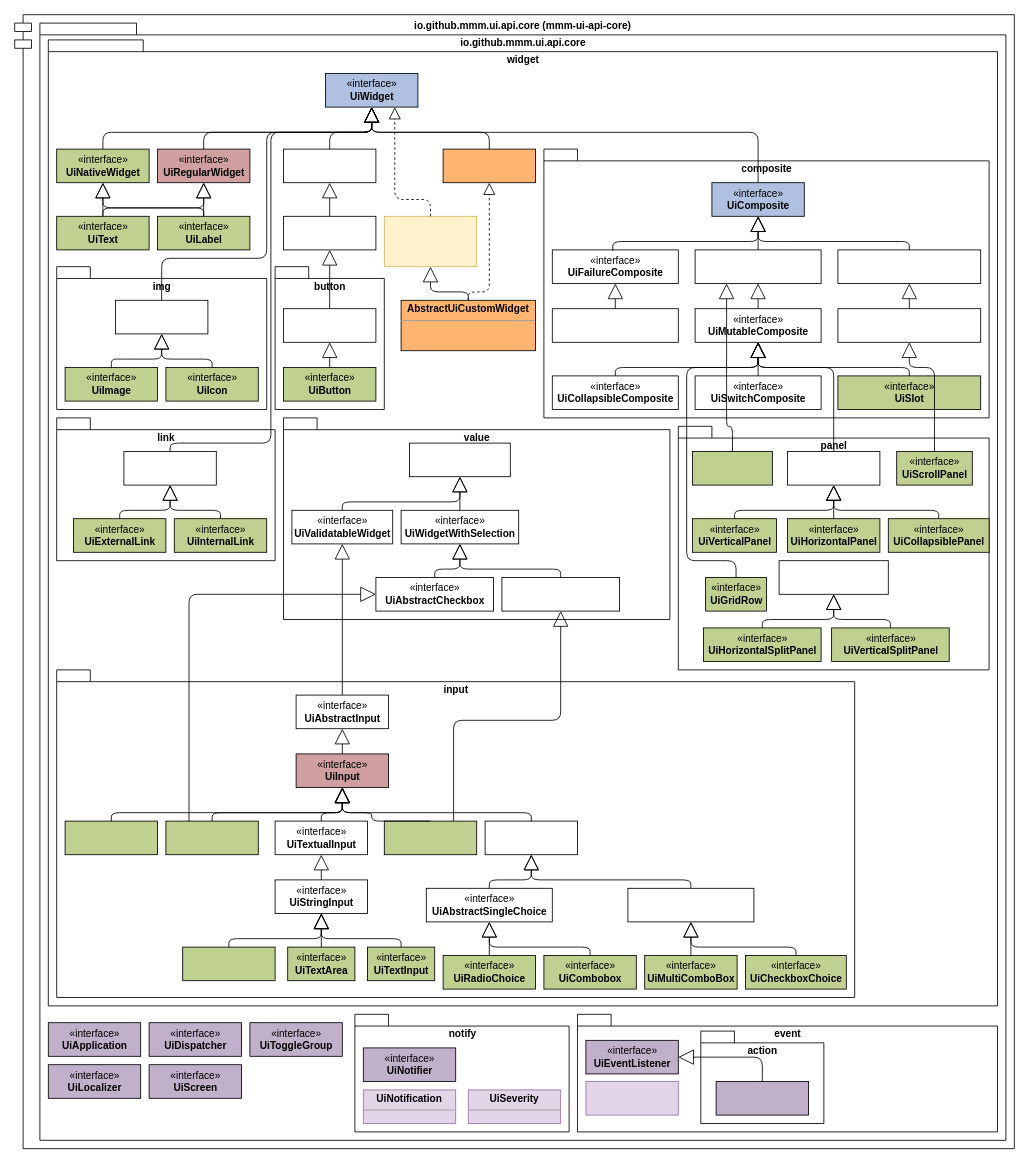
The diagram is 1029 pixels wide and 1163 high, and some of its shapes have lost their labels. The centre of each missing label's shape, as x and y in pixels:
AbstractUiWidget: [430,241]
UiEvent: [631,1098]
«interface» UiAbstractButton: [329,325]
«interface» UiAbstractChoice: [531,837]
«interface» UiAbstractImage: [161,316]
«interface» UiAbstractLink: [169,468]
«interface» UiAbstractMultiChoice: [690,904]
«interface» UiAbstractRadioButton: [560,594]
«interface» UiAbstractSplitPanel: [833,577]
«interface» UiAction: [761,1098]
«interface» UiActiveWidget: [329,165]
«interface» UiCheckbox: [211,837]
«interface» UiClickableWidget: [329,232]
«interface» UiColorInput: [111,837]
«interface» UiCustomWidget: [489,165]
«interface» UiGridPanel: [732,468]
«interface» UiMutablePanel: [833,468]
«interface» UiMutableSingleComposite: [909,325]
«interface» UiPasswordInput: [228,963]
«interface» UiRadioButton: [430,837]
«interface» UiRemovableComposite: [757,266]
«interface» UiSingleComposite: [909,266]
«interface» UiValuedComposite: [614,325]
«interface» UiValuedWidget: [459,459]
